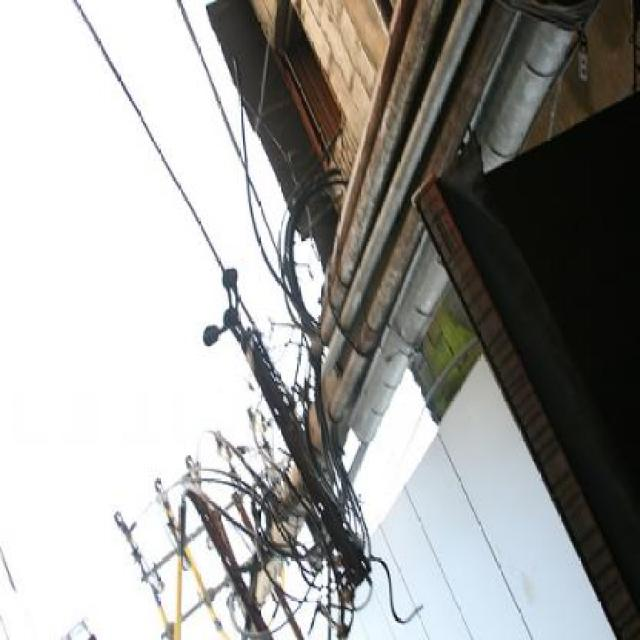pole: (137, 56, 528, 598)
